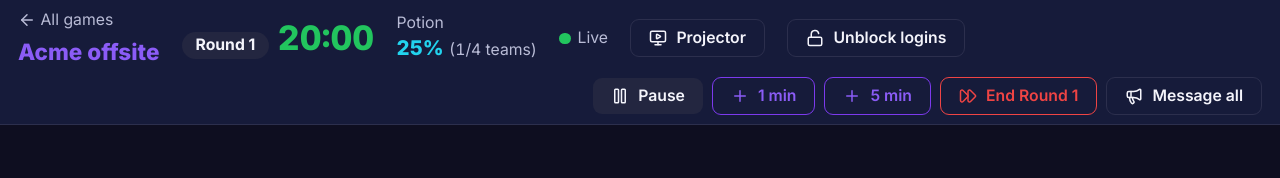
Test case: live controls › lets the main admin unblock team logins at once
Click the button "Unblock logins" at x=876, y=38, box 788,19 -> 965,57
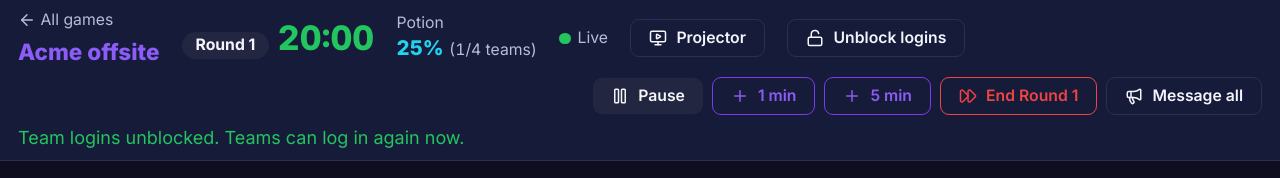
Result: the message shows "Team logins unblocked." at 18,127 -> 464,148
